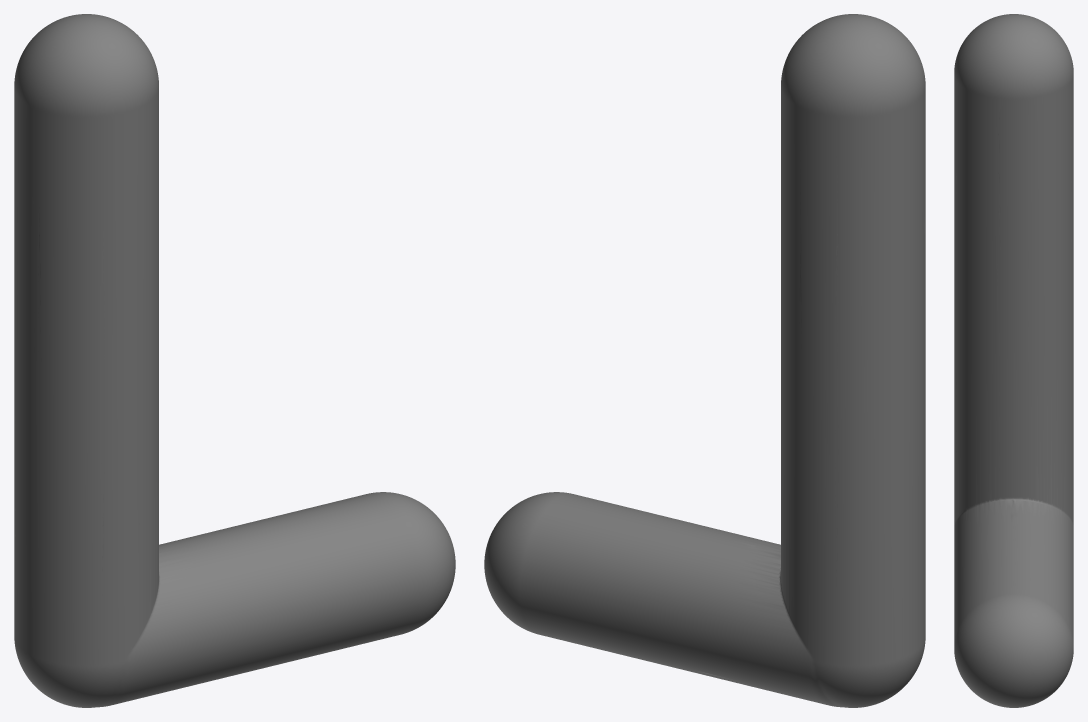
The model's file is letter-l.glb.
3 views of the same model, side by side, from view 1: azimuth 30°, elevation 25°; view 2: azimuth 150°, elevation 25°; view 3: azimuth 270°, elevation 25° (orthographic). The views are drawn at different scales.
Parts seen in each view (by area): view 1: node_id3; view 2: node_id3; view 3: node_id3.
Part boxes in pixels (x1=…): node_id3: x1=14, y1=14, x2=455, y2=707; node_id3: x1=484, y1=14, x2=925, y2=707; node_id3: x1=954, y1=14, x2=1073, y2=707.
Size of the model in its own units: 0.3316 by 0.512 by 0.0985.
1 material, 1 textured.
